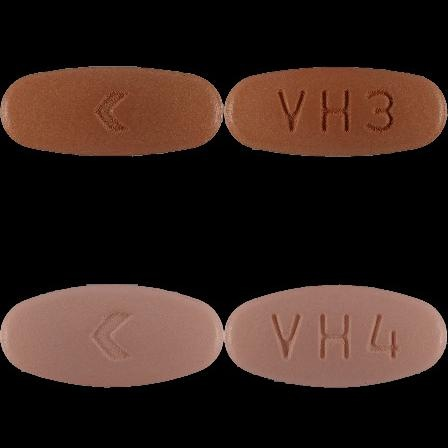0591-2317: (0, 0, 224, 224)
